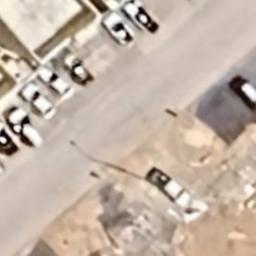pickup: (144, 162, 193, 208), (119, 1, 160, 36)
sedan: (17, 80, 56, 120), (101, 10, 137, 48), (61, 53, 96, 87), (35, 66, 72, 98)
unknown: (2, 102, 44, 150)
van: (227, 74, 256, 112)
